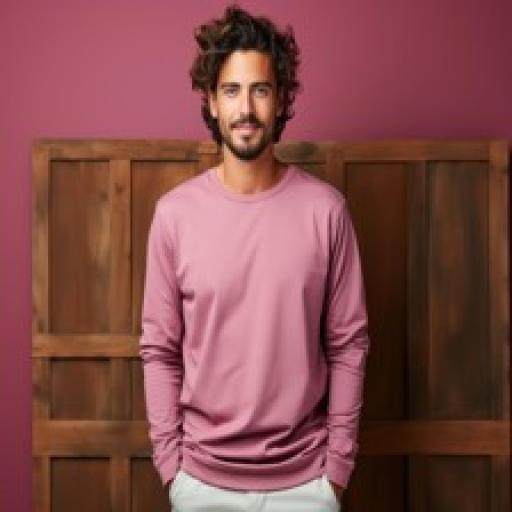human: (136, 9, 366, 512)
